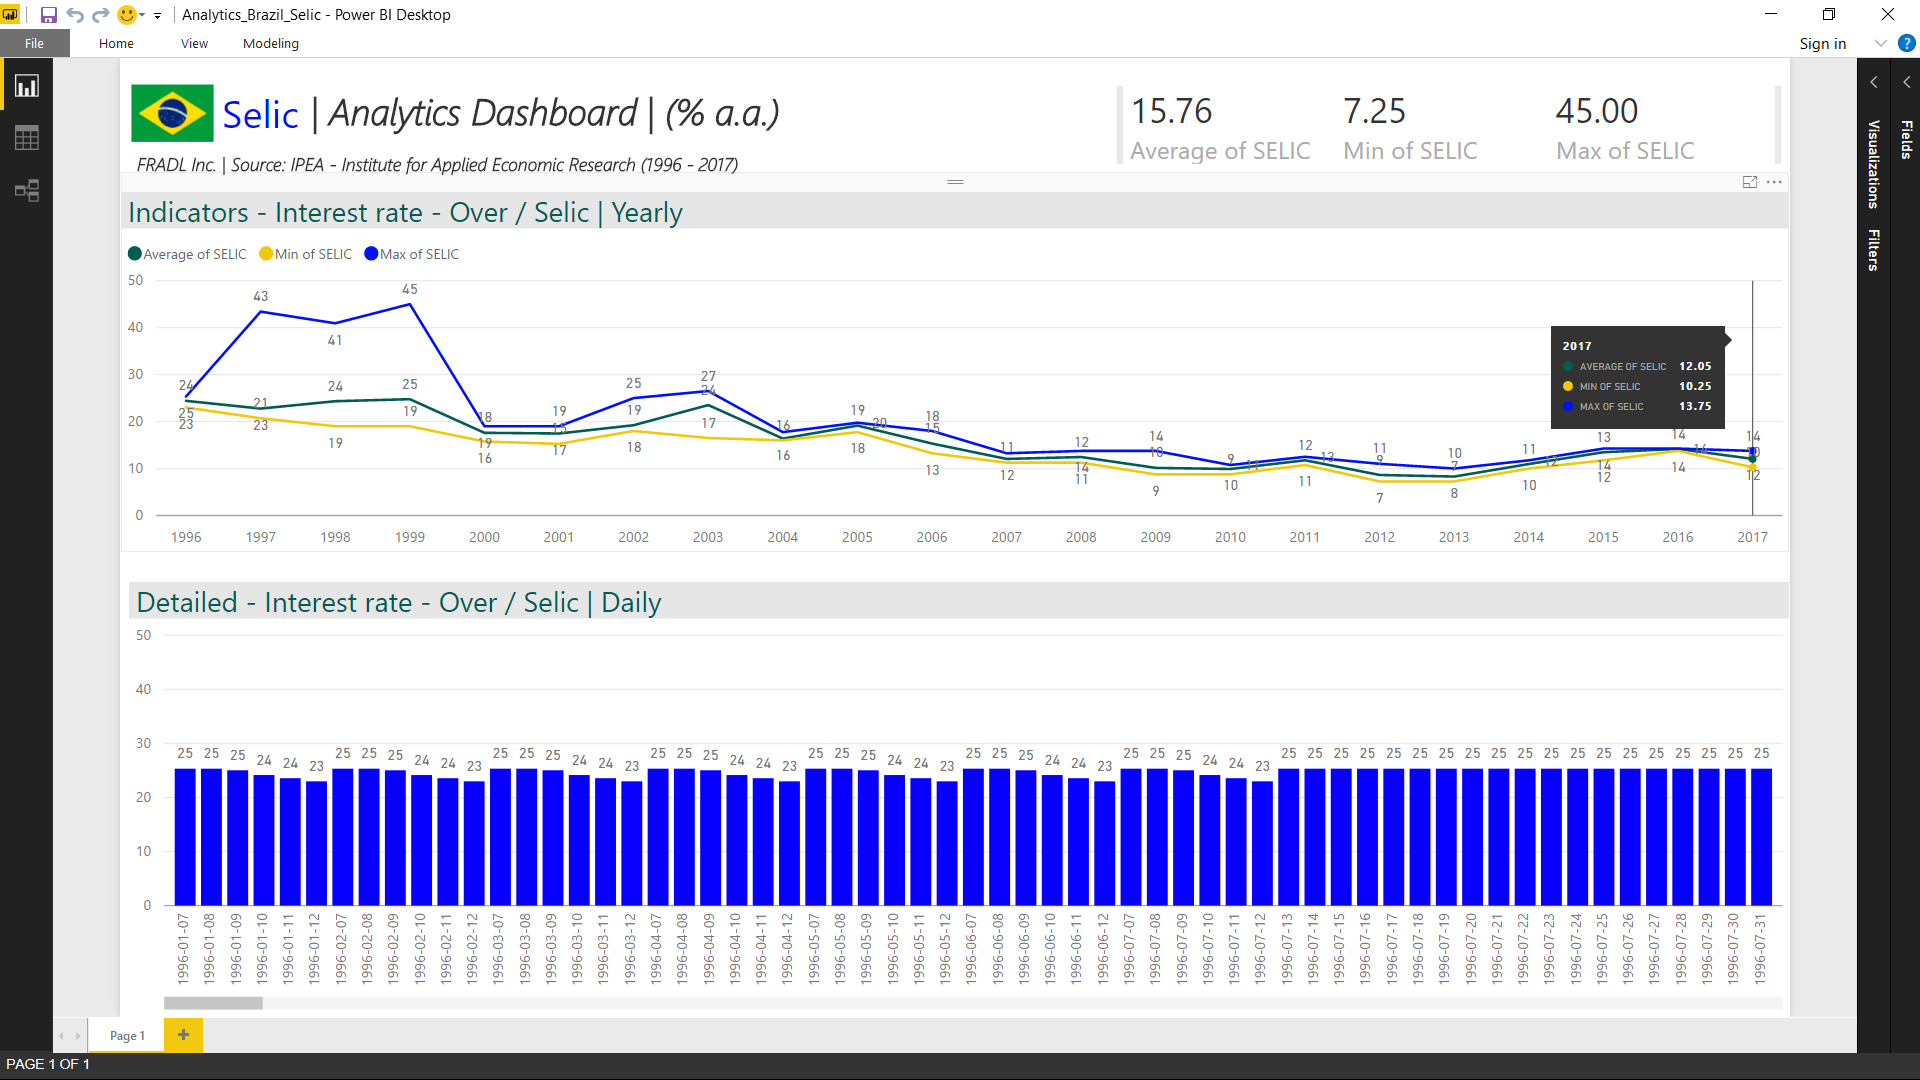

What the dashboard file says about the page in this screenshot:
{"tool":"powerbi","page":{"name":"Page 1","canvas":[1280,720],"ordinal":0},"visuals":[{"type":"textbox","box":[141,1,403,50],"z":0},{"type":"textbox","box":[73,6,74,46],"z":0},{"type":"image","box":[0.8,0,78.2,54.4],"z":1},{"type":"lineClusteredColumnComboChart","fields":{"Category":["Taxa Juros Anual.Data"],"Y":["Sum(Taxa Juros Anual.SELIC)"]},"box":[7,386.6,1272.8,333.4],"z":2},{"type":"lineChart","fields":{"Category":["Taxa Juros Anual.Data.Variation.Date Hierarchy.Year"],"Y":["Avg(Taxa Juros Anual.SELIC)","Min(Taxa Juros Anual.SELIC)","Max(Taxa Juros Anual.SELIC)"]},"box":[0.8,87.4,1279,276],"z":5},{"type":"multiRowCard","fields":{"Values":["Avg(Taxa Juros Anual.SELIC)","Taxa Juros Anual.SELIC","Taxa Juros Anual.SELIC1"]},"box":[759,1,520,70],"z":6},{"type":"textbox","box":[7.7,51.4,505.3,28.4],"z":7}]}

Visuals, with their boxes on the page's 1280x720 design canvas (x1, y1, x2, y2). These are canvas units, not pixel positions in the 1920x1080 screenshot, which may show the page scaled, cropped or inside an application window:
textbox: pyautogui.locateOnScreen(141, 1, 544, 51)
textbox: pyautogui.locateOnScreen(73, 6, 147, 52)
image: pyautogui.locateOnScreen(1, 0, 79, 54)
lineClusteredColumnComboChart - Taxa Juros Anual.Data x Sum(Taxa Juros Anual.SELIC): pyautogui.locateOnScreen(7, 387, 1280, 720)
lineChart - Taxa Juros Anual.Data.Variation.Date Hierarchy.Year x Avg(Taxa Juros Anual.SELIC): pyautogui.locateOnScreen(1, 87, 1280, 363)
multiRowCard - Avg(Taxa Juros Anual.SELIC) x Taxa Juros Anual.SELIC: pyautogui.locateOnScreen(759, 1, 1279, 71)
textbox: pyautogui.locateOnScreen(8, 51, 513, 80)
